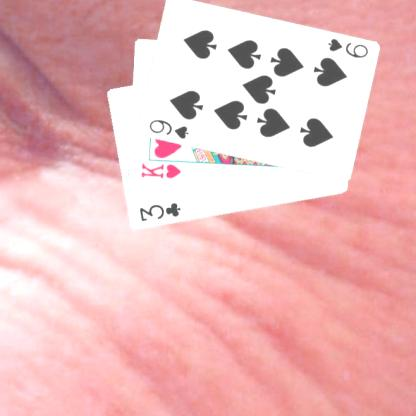3C: (136, 200, 182, 223)
9S: (324, 36, 370, 60), (146, 116, 190, 141)
KH: (138, 161, 182, 180)
